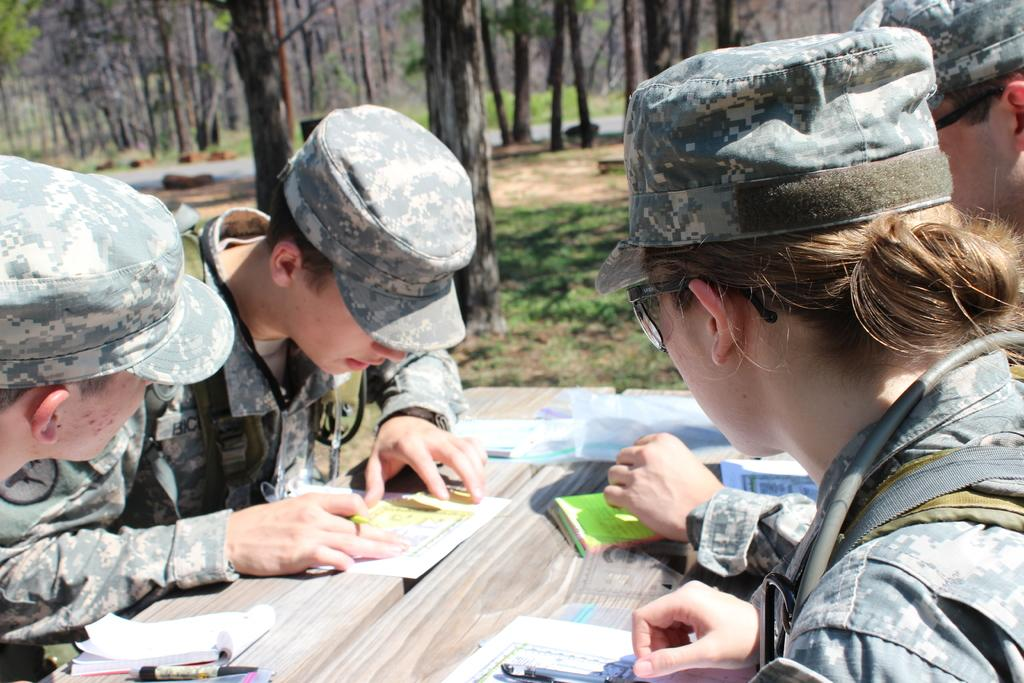Hat: (592, 22, 954, 294), (0, 154, 233, 392), (278, 100, 467, 350), (850, 0, 1023, 87)
